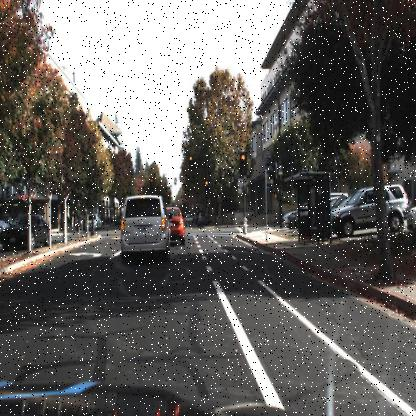car: (330, 182, 409, 241), (331, 182, 408, 237), (118, 192, 170, 264), (0, 208, 52, 253), (167, 199, 186, 251), (82, 211, 102, 235), (82, 211, 104, 232)
trafficLight-Red: (236, 151, 246, 180), (240, 152, 247, 174), (204, 174, 210, 197), (188, 154, 193, 175), (204, 179, 209, 193), (188, 156, 193, 168)
trafficLight-RedLeft: (148, 176, 155, 193), (148, 176, 154, 193)
